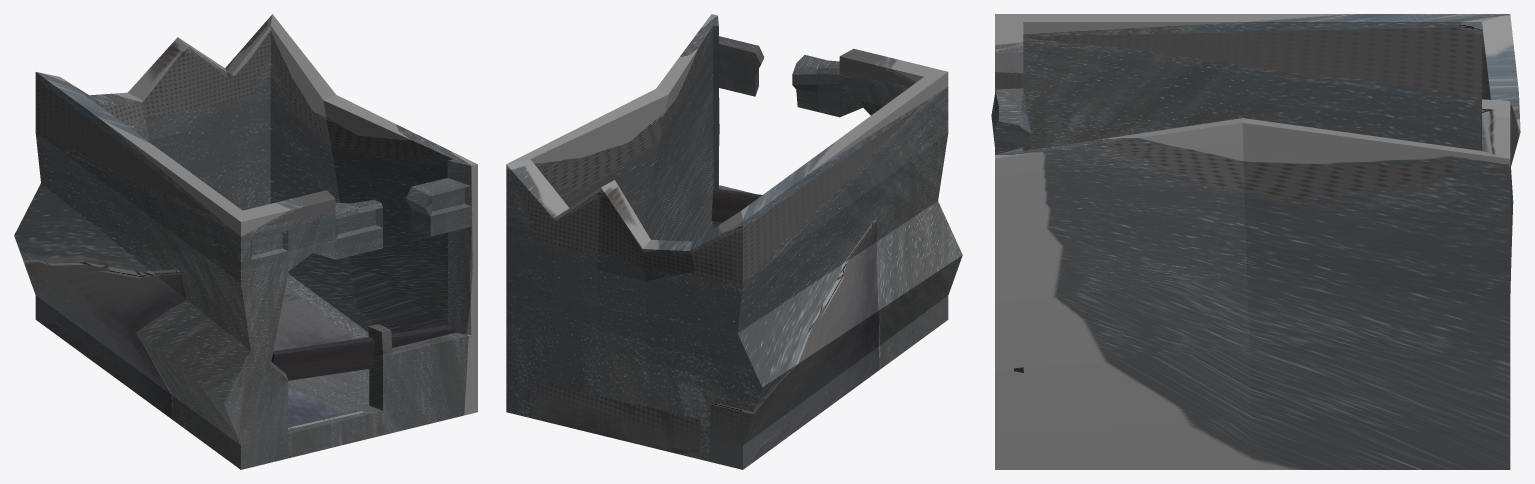
Rendered from destruido 4.fbx.
3 views of the same model, side by side, from view 1: azimuth 30°, elevation 25°; view 2: azimuth 150°, elevation 25°; view 3: azimuth 270°, elevation 25° (orthographic). The views are drawn at different scales.
Visible parts, largest first — view 1: Cube.027, Cube.034; view 2: Cube.027, Cube.034; view 3: Cube.027.
Part boxes in pixels (x1,y1,x2,y2): Cube.027: (14,14,477,469); Cube.034: (271,325,455,380); Cube.027: (506,14,962,469); Cube.034: (711,189,761,222); Cube.027: (991,14,1520,469).
Size of the model in its own units: 217 by 206 by 308.
2 materials, 2 textured.
